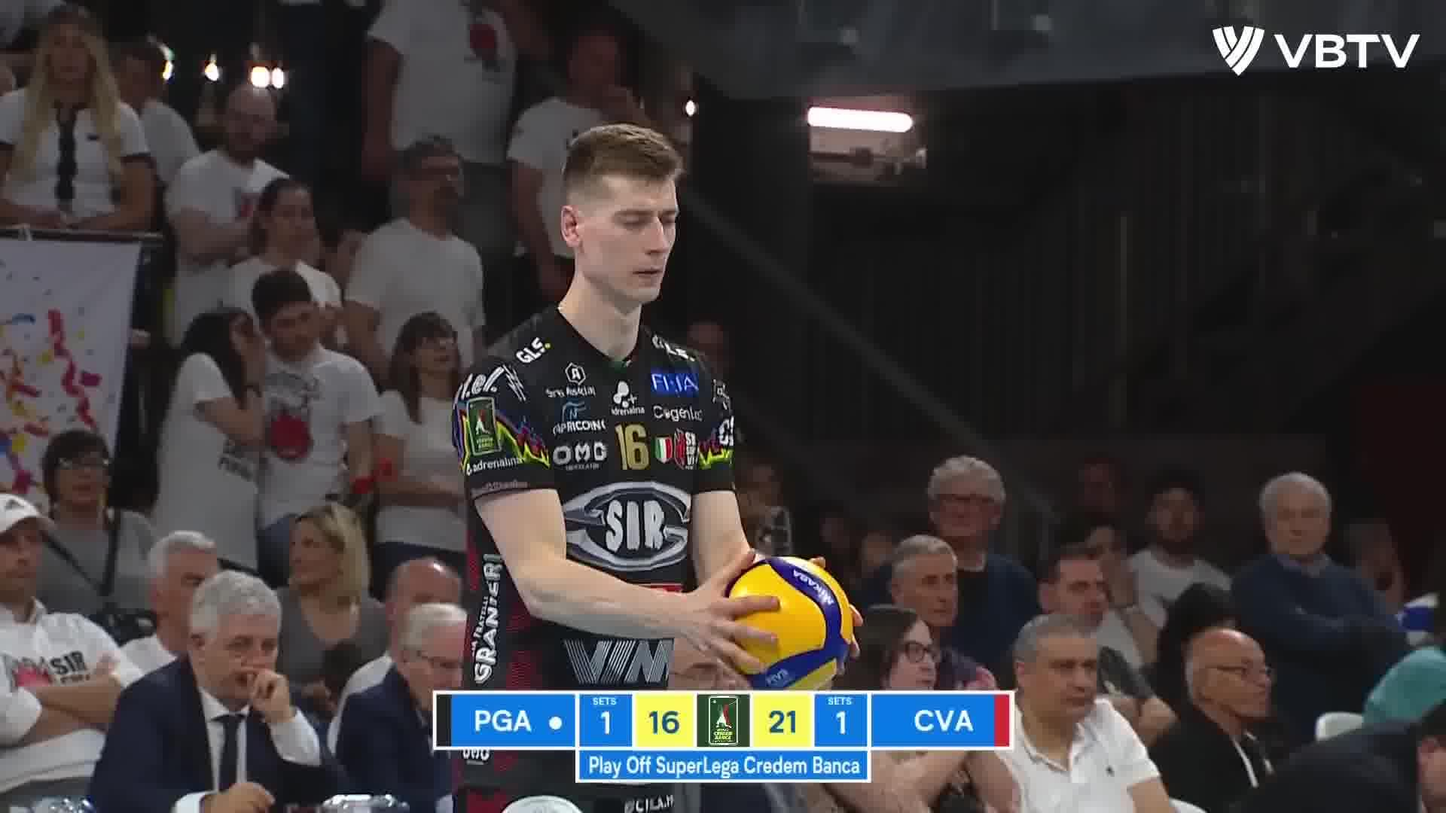balls: (708, 546, 867, 689)
